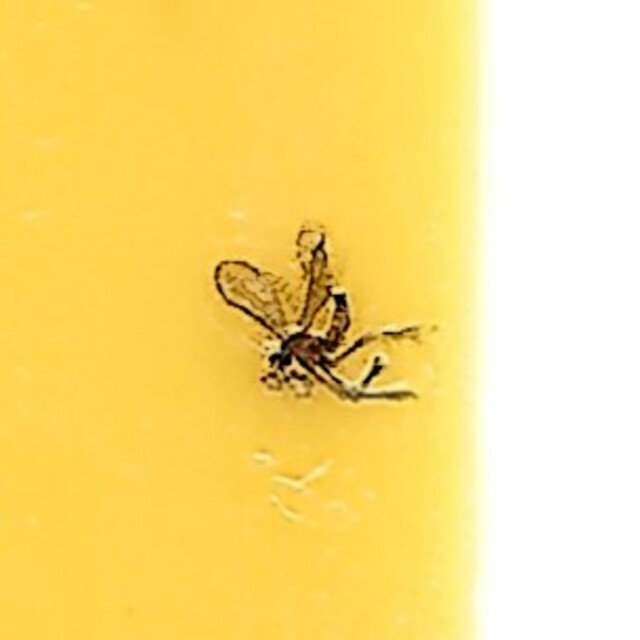Nematocera: (210, 221, 430, 419)
